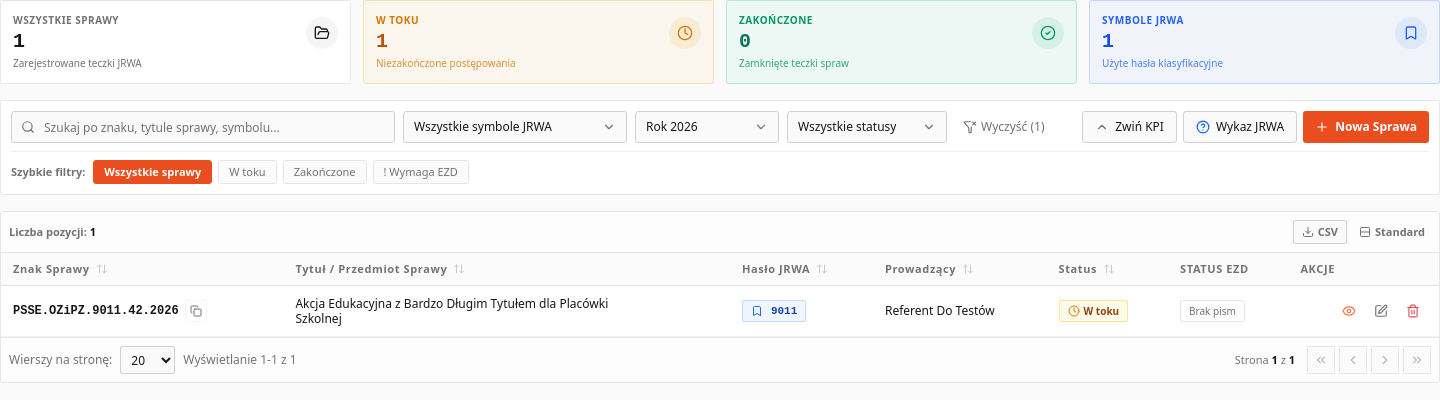
Test: Sprawy JRWA: przypadki brzegowe › Edge Cases & Structural Resiliency › JrwaSection: KPI summary toggle respects and persists state to localStorage
Expected: the text "Wszystkie Sprawy" is shown, [13,13,119,27]
Note: Click to collapse
Click the button "Zwiń KPI": (1130, 127) [1082,111,1177,143]
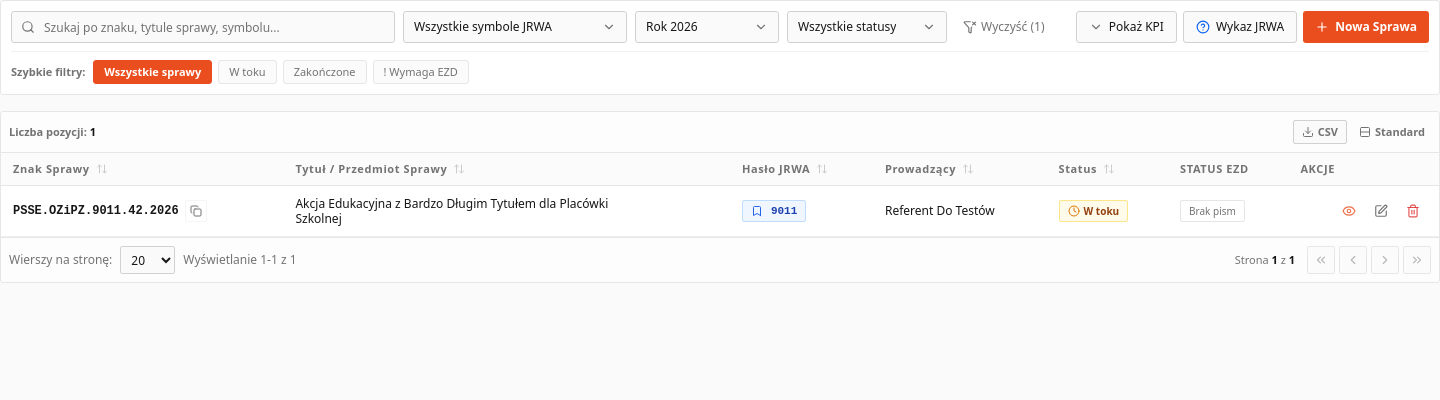
Note: Click to re-expand
Click the button "Pokaż KPI": (1126, 27) [1076,11,1177,43]
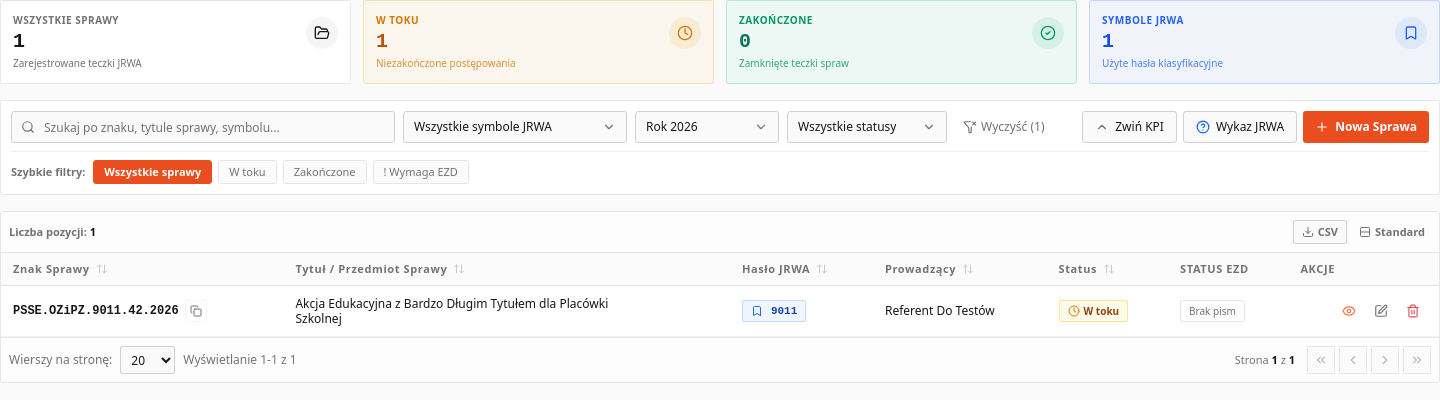
Now the text "Wszystkie Sprawy" is shown, box [13,13,119,27]
